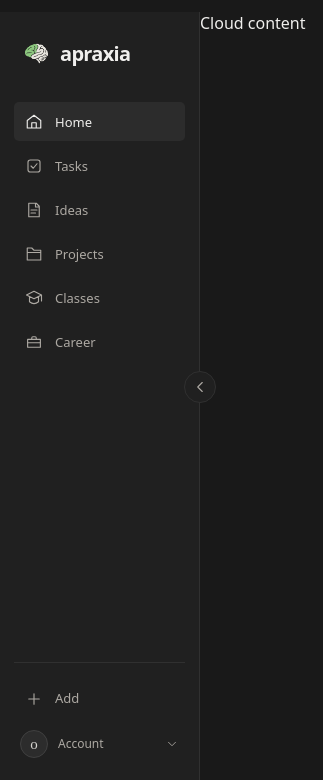
CloudAppShell › shows Settings and only the sanitized email inside the account popover
The width and height of the screenshot is (323, 780).
Expected: the link "settings" is not shown
Click the button "o Account" at (100, 744), box [14, 724, 185, 764]
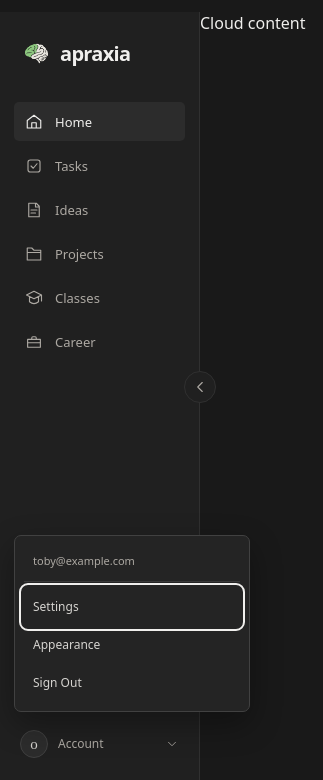
Result: the text "toby@example.com" is shown at [24, 544, 240, 582]
